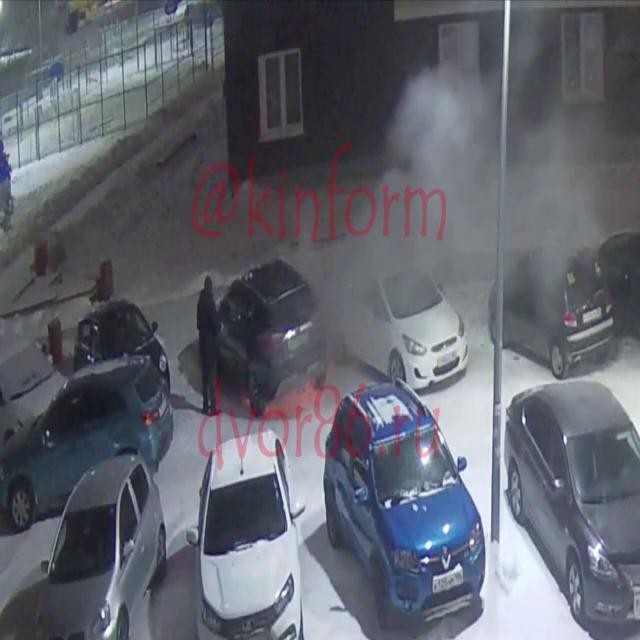Smoke: (388, 8, 640, 310)
